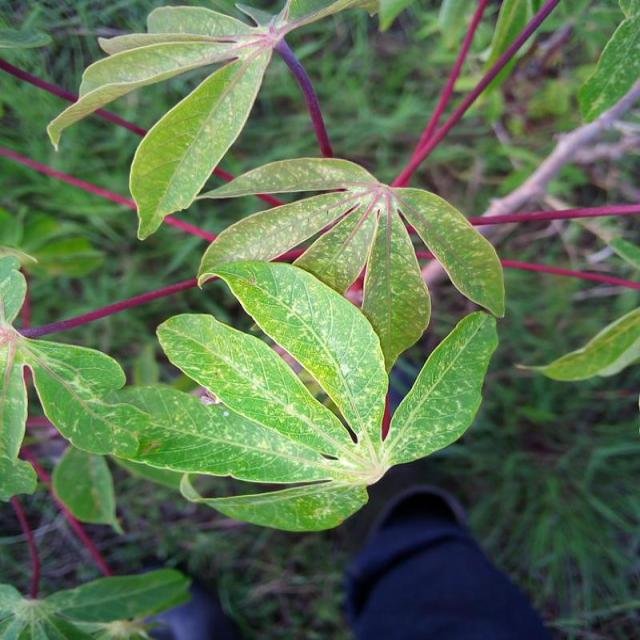cassava leaf: (22, 157, 506, 531), (200, 258, 390, 449)
